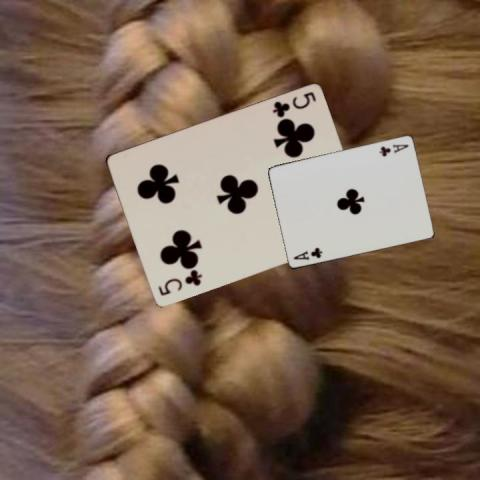5c: (270, 90, 318, 120), (155, 268, 203, 297)
Ac: (377, 142, 410, 158), (291, 244, 324, 260)
